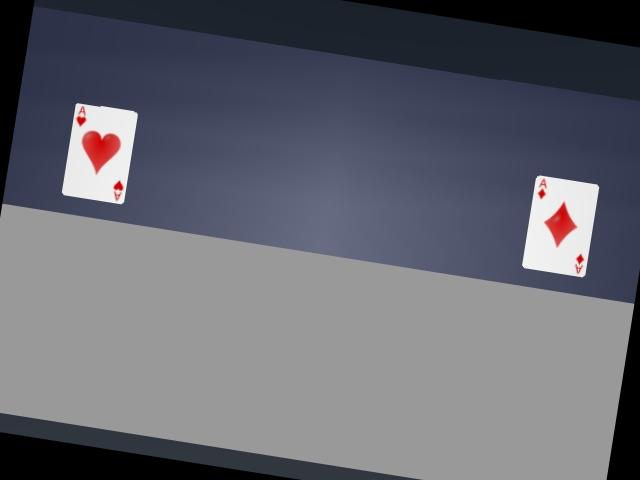diamond: (522, 176, 598, 276)
heart: (62, 104, 137, 203)
